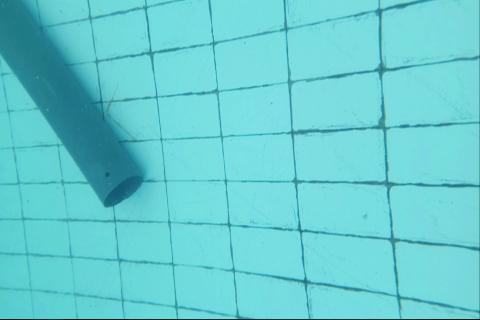kebocoran: (104, 171, 110, 177)
